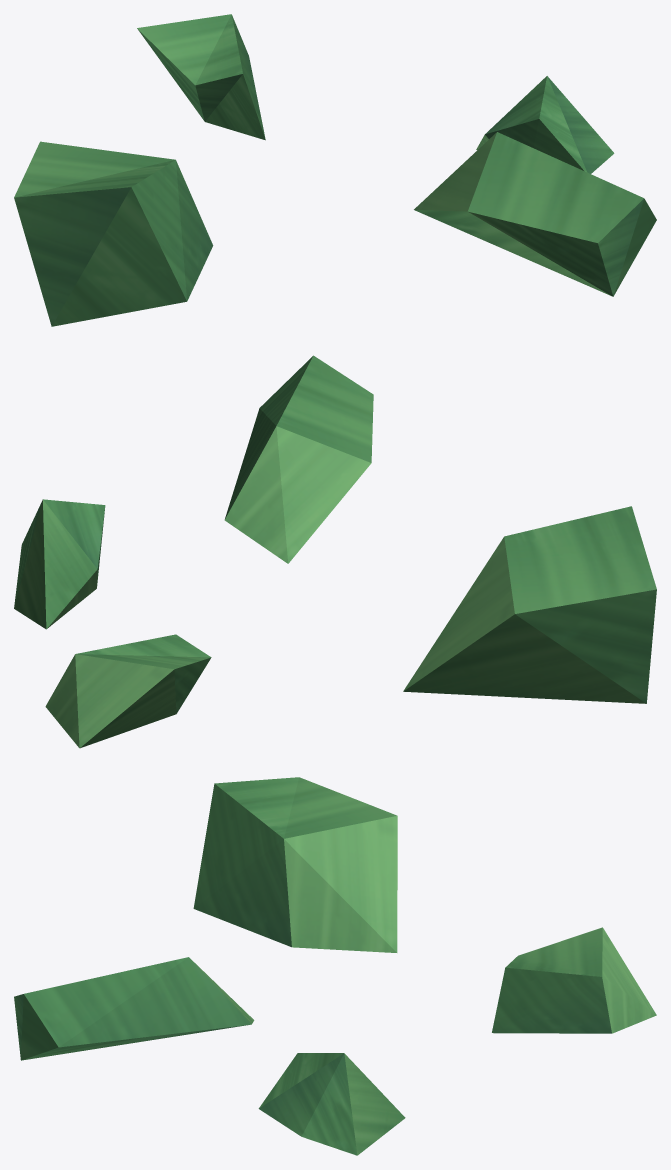
Rendered from Crystal5.fbx.
3 renders of one model, top to bottom at view 1: azimuth 30°, elevation 25°; view 2: azimuth 150°, elevation 25°; view 3: azimuth 270°, elevation 25°, orthographic. The views are drawn at different scales.
Visible parts, largest first — view 1: polySurface48; view 2: polySurface48; view 3: polySurface48.
Part boxes in pixels (bbox=[...]): polySurface48: bbox=[14, 14, 656, 326]; polySurface48: bbox=[14, 355, 656, 748]; polySurface48: bbox=[14, 777, 656, 1155].
Size of the model in its own units: 0.8327 by 0.2161 by 0.8508.
Materials: 1 (1 with a texture image).
